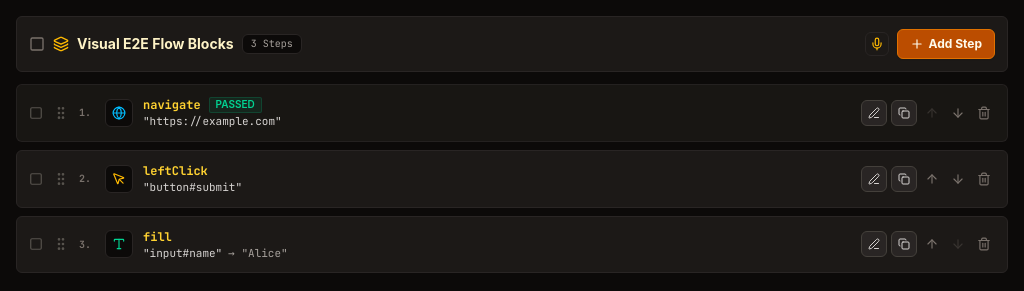
Test case: VisualStepEditor › selects all steps when select all is clicked
Click the button titled "Select All" at (37, 44), box x1=29 y1=36 x2=45 y2=52
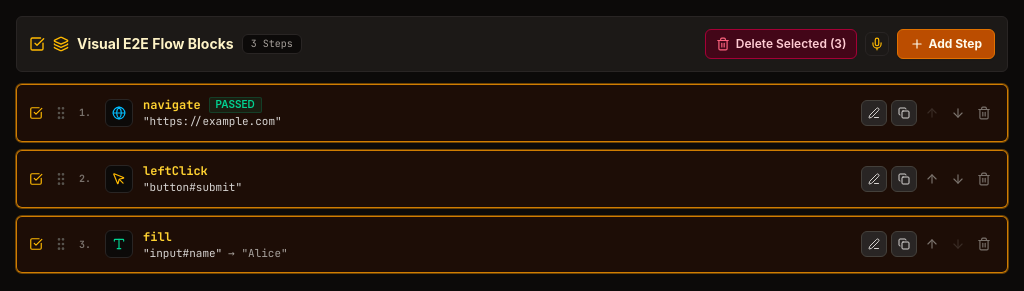
Result: the button titled "Delete Selected (3)" is shown at x1=705 y1=29 x2=858 y2=59
